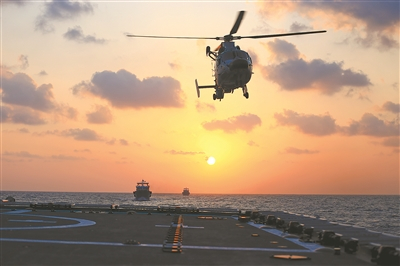airplane: (123, 10, 331, 108)
otherboat: (132, 180, 155, 203)
